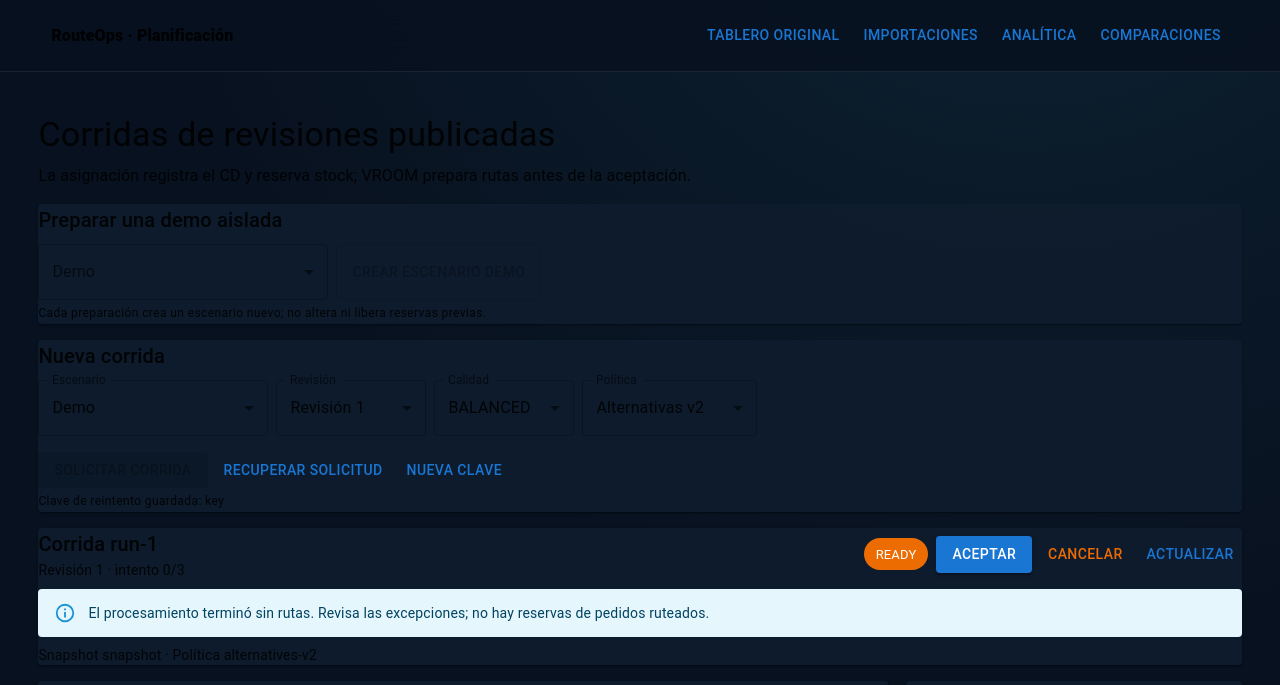
Test: published revision planning › offers only valid transitions for a ready run
Click the button "Aceptar": (984,554) [936,536,1032,573]
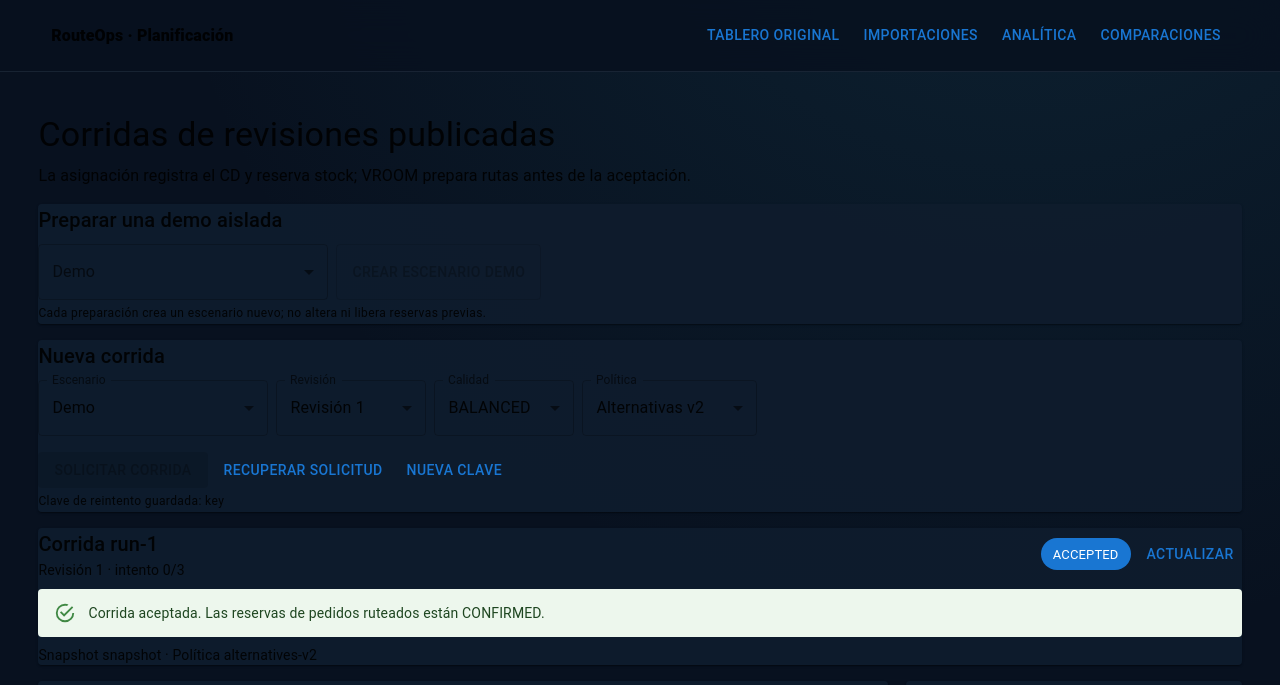
Expected: the button "Cancelar" is gone
